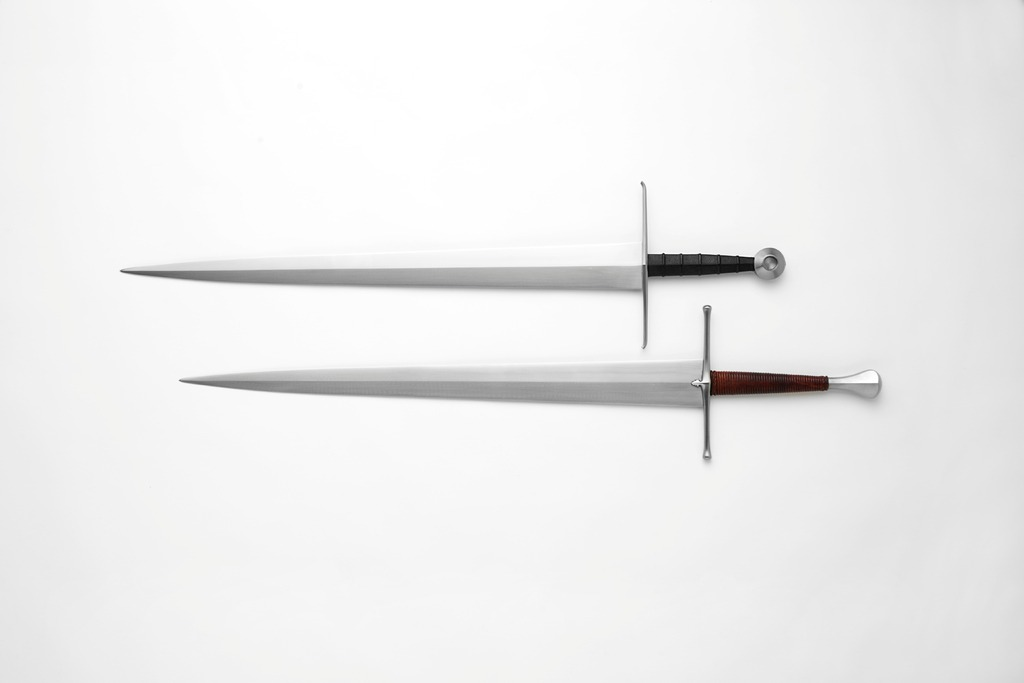sword: (168, 291, 899, 476), (155, 186, 820, 328)
